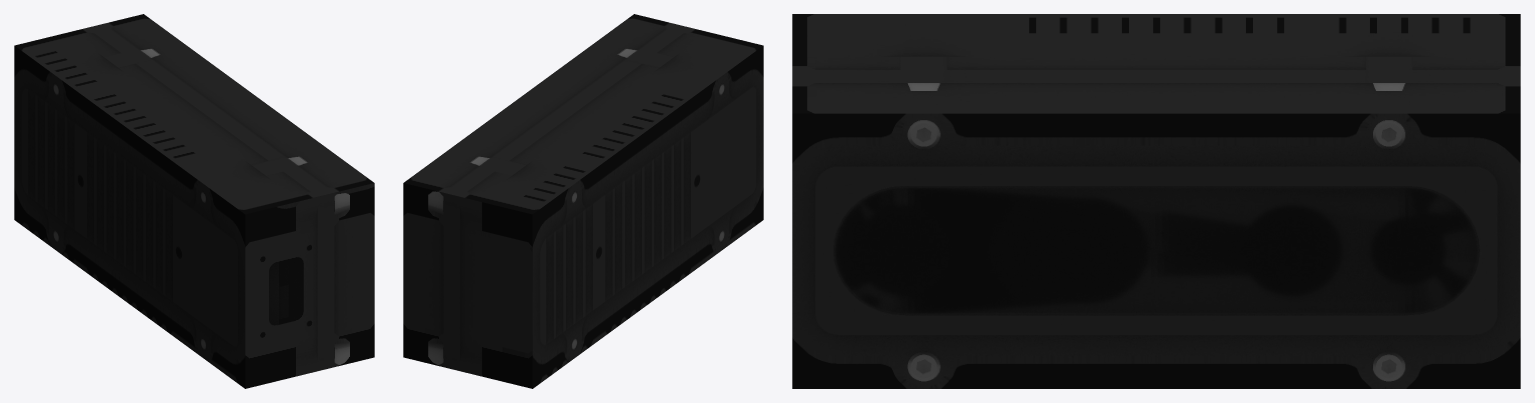
File: depth_camera.dae
3 renders of one model, left to right at view 1: azimuth 30°, elevation 25°; view 2: azimuth 150°, elevation 25°; view 3: azimuth 270°, elevation 25°, orthographic. The views are drawn at different scales.
Visible parts, largest first — view 1: Realsense LP; view 2: Realsense LP; view 3: Realsense LP.
Part boxes in pixels (left/top/right/bottom): Realsense LP: left=14, top=14, right=374, bottom=388; Realsense LP: left=403, top=14, right=763, bottom=388; Realsense LP: left=792, top=14, right=1520, bottom=388.
Size of the model in its own units: 0.0304 by 0.094 by 0.0392.
1 material, 1 textured.
